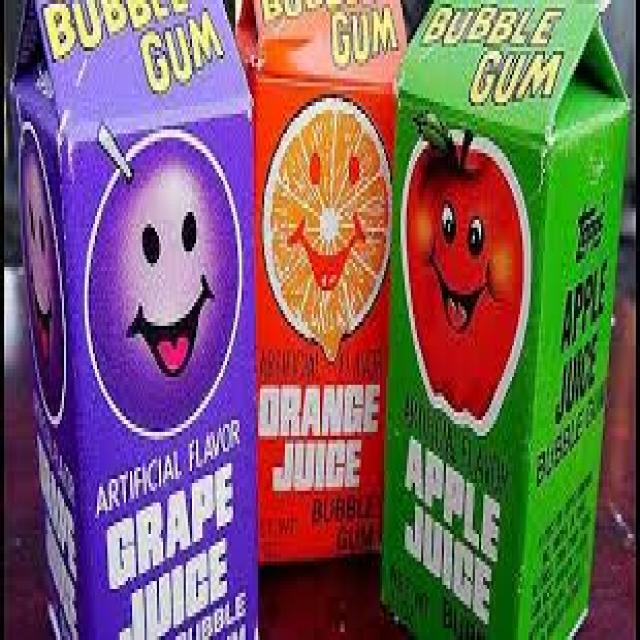non_white_jug: (6, 0, 271, 636), (373, 0, 620, 636), (228, 0, 418, 577)
